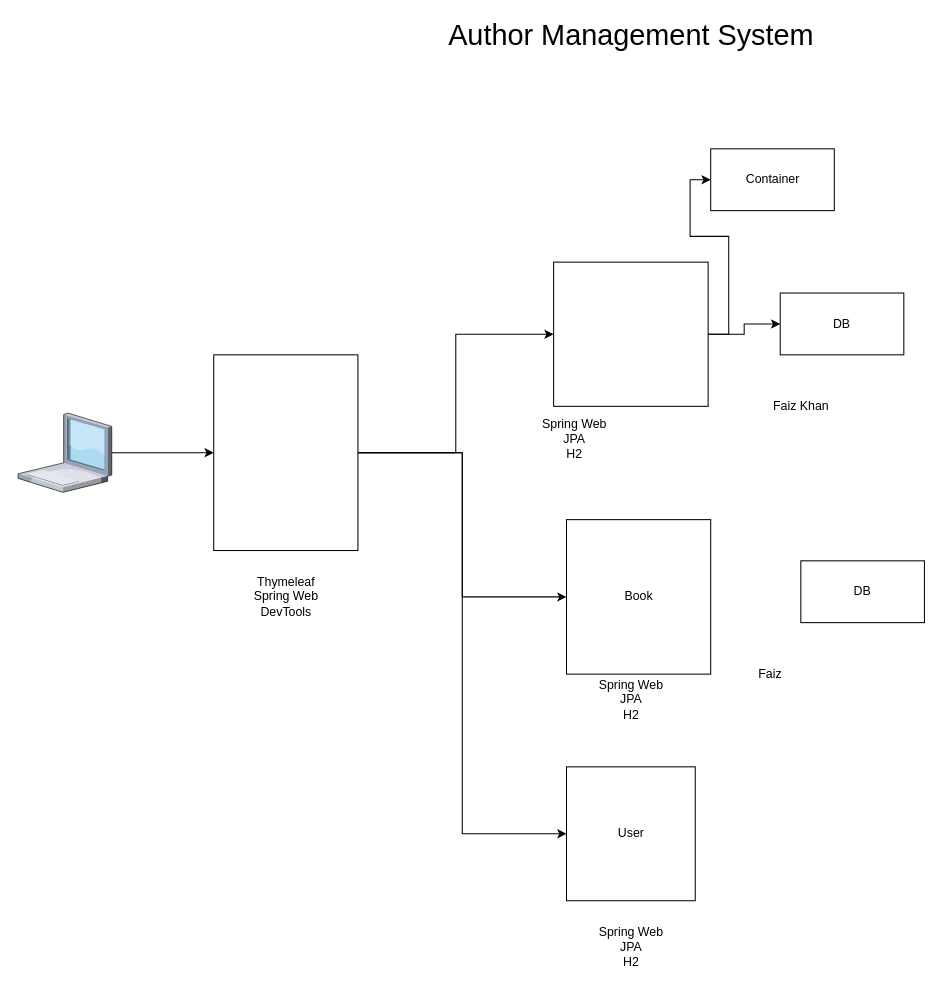
Image size: 942x990. Some labels were removed from this diagram. The shapes that lost their labels are listed below. From the top down, each one's centre as x and y in pixels, then its label:
At (x=630, y=333): "Author".
At (x=285, y=452): "WebApp".
